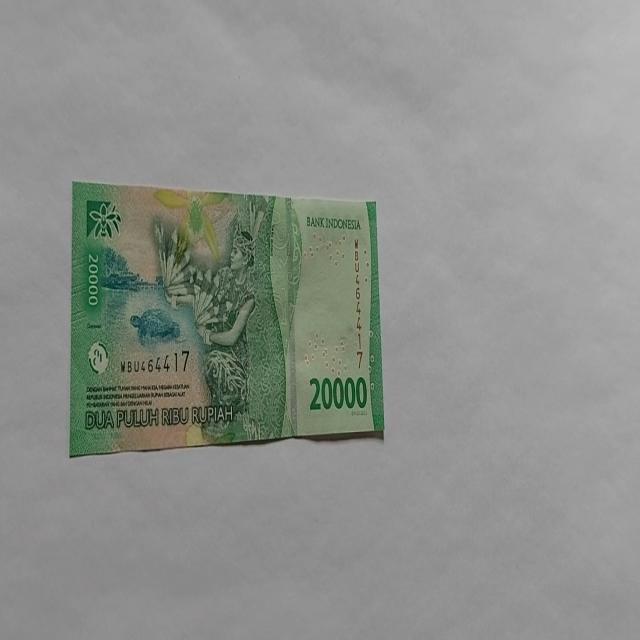dua puluh ribu rupiah: (69, 181, 385, 457)
